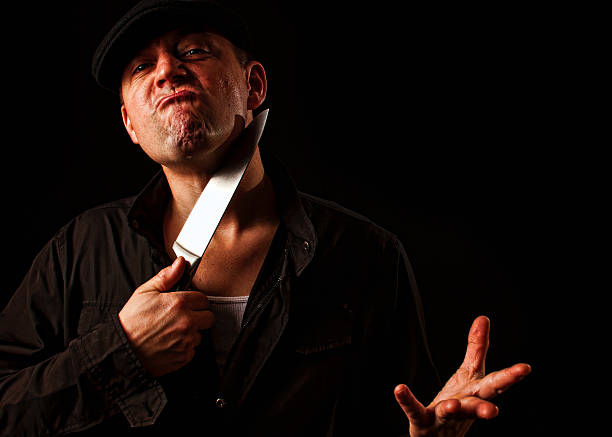knife: (159, 107, 272, 292)
